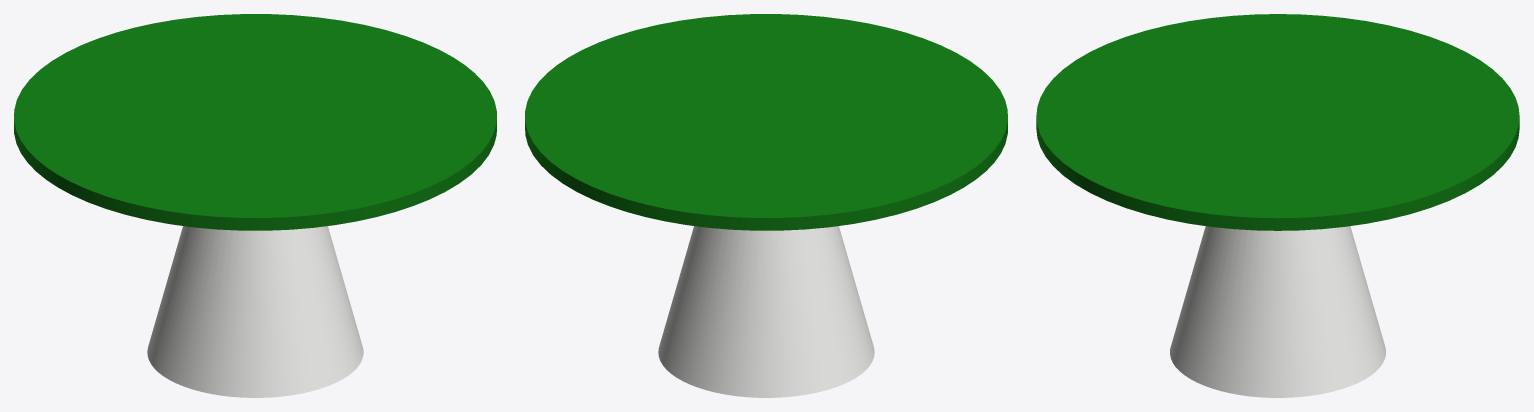
File: table.fbx
3 views of the same model, side by side, from view 1: azimuth 30°, elevation 25°; view 2: azimuth 150°, elevation 25°; view 3: azimuth 270°, elevation 25° (orthographic).
Visible parts, largest first — view 1: green, white; view 2: green, white; view 3: green, white.
Part boxes in pixels (left/top/right/bottom): green: left=14, top=14, right=496, bottom=230; white: left=147, top=226, right=363, bottom=397; green: left=525, top=14, right=1007, bottom=230; white: left=658, top=226, right=874, bottom=397; green: left=1036, top=14, right=1519, bottom=230; white: left=1170, top=226, right=1385, bottom=397.
Size of the model in its own units: 2939 by 1585 by 2939.
